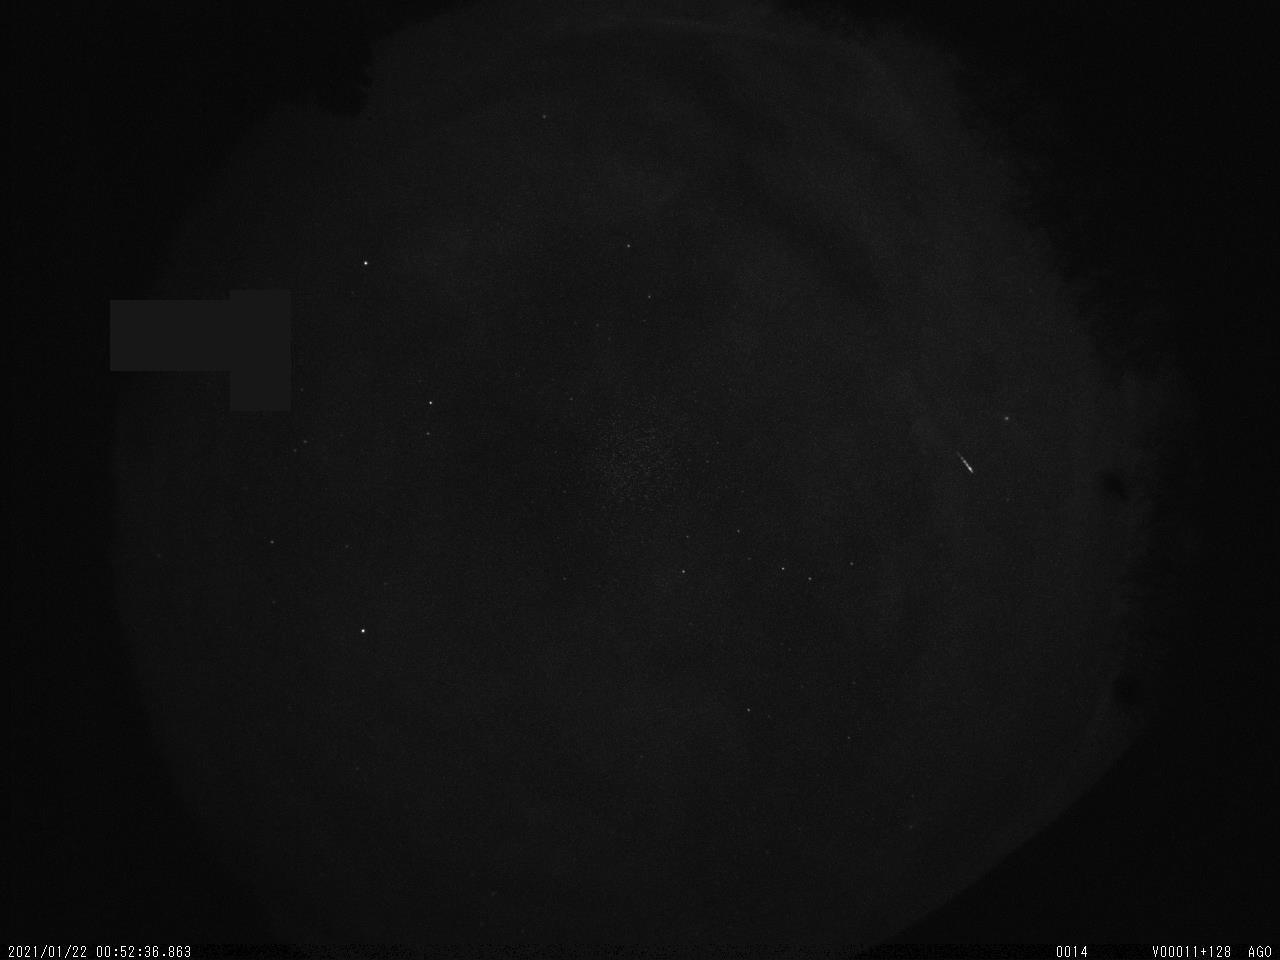meteor: (948, 451, 982, 474)
